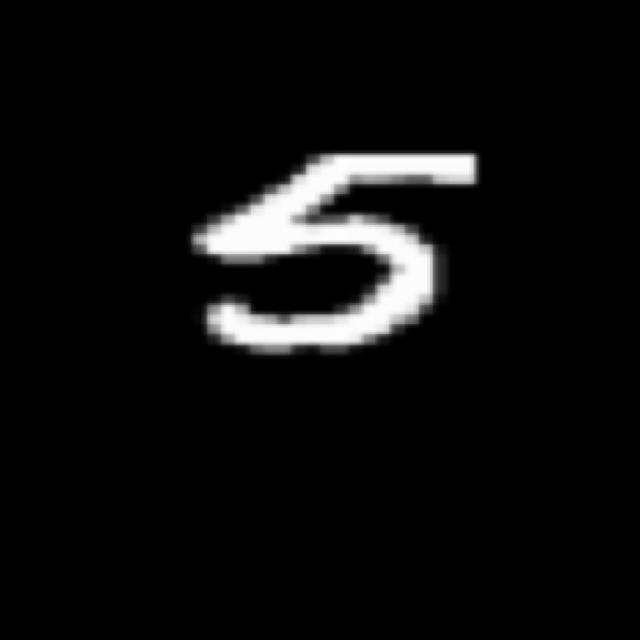five -5-: (179, 141, 494, 368)
